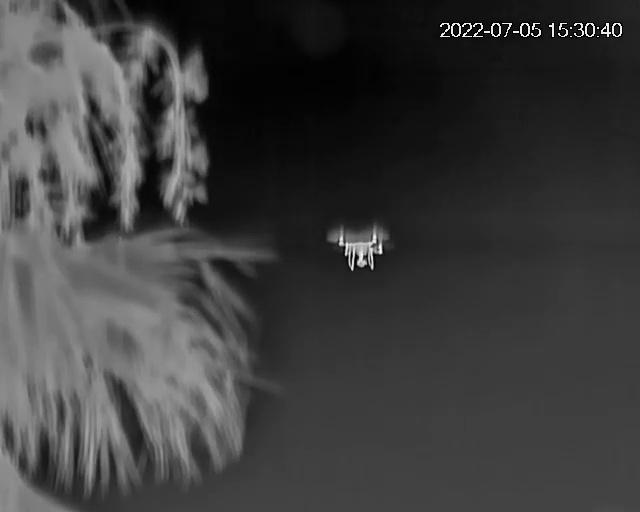DJI-Phantom: (327, 226, 393, 273)
